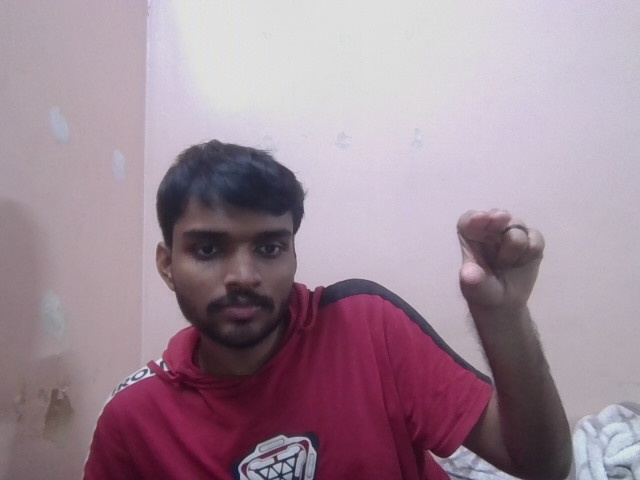No: (452, 204, 552, 309)
